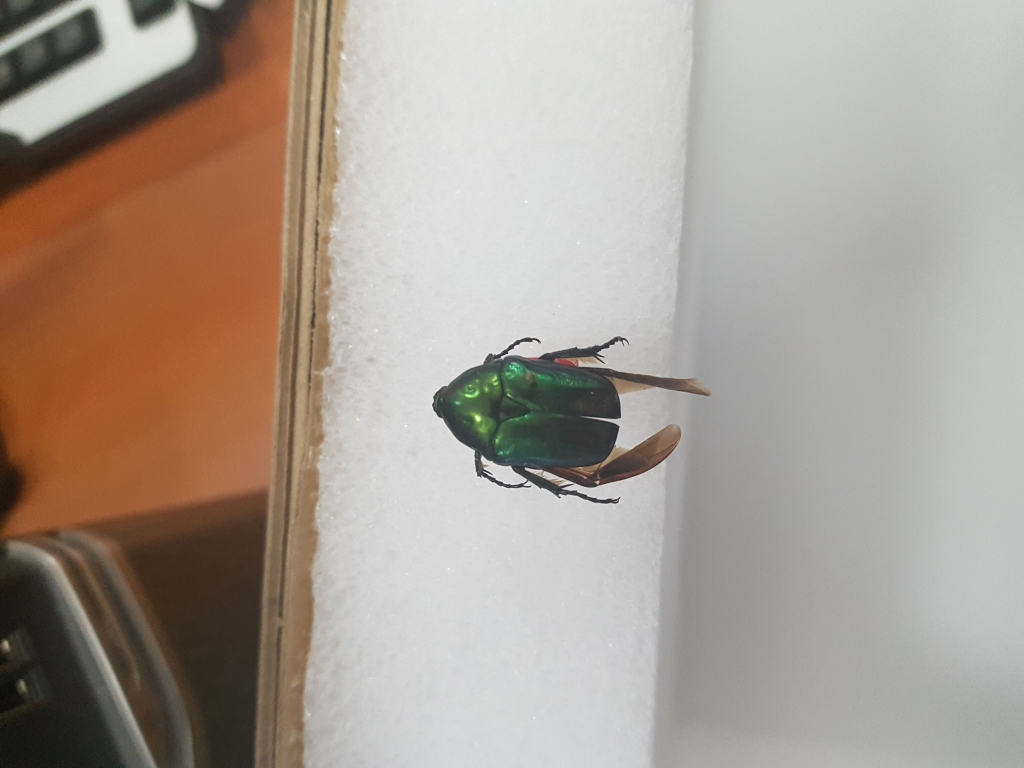Protaetia_besucheti: (423, 326, 726, 501)
